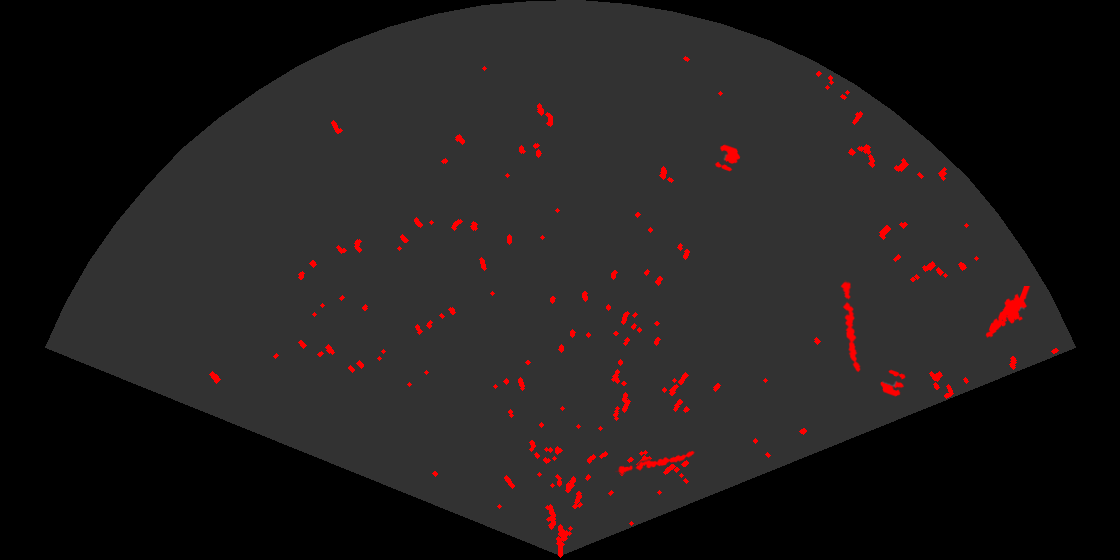ball: (713, 143, 742, 173), (879, 368, 907, 398)
chain: (615, 449, 697, 476), (839, 280, 862, 374)
frogman: (984, 286, 1032, 340)
